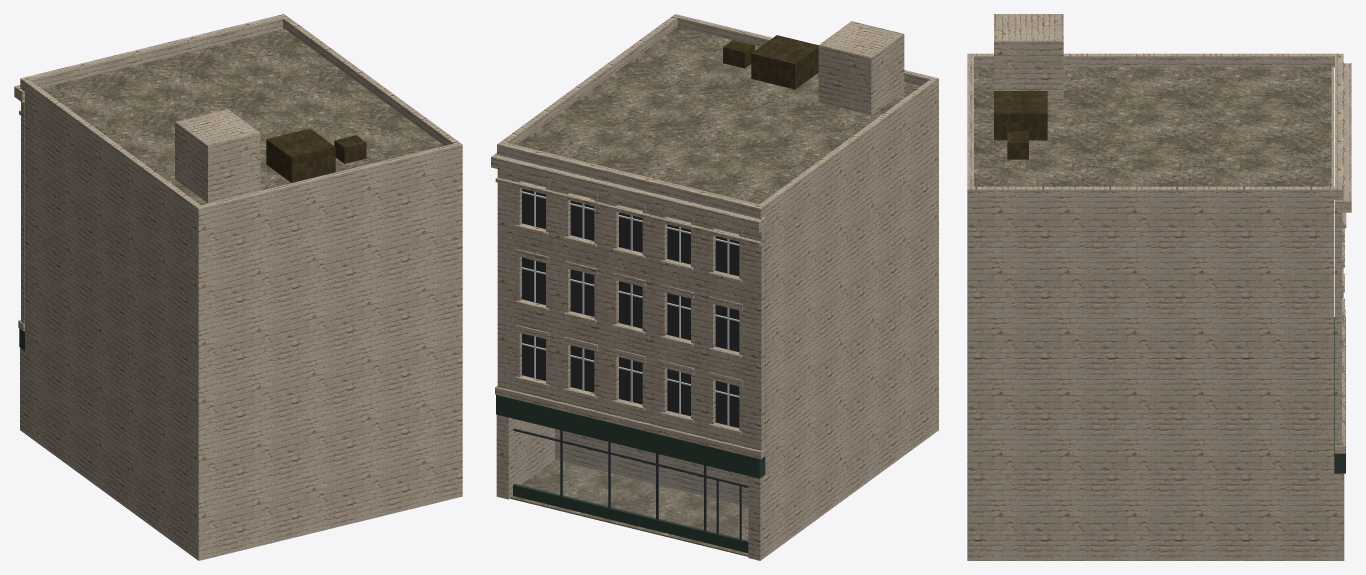
File: bldg_shop_stone_4st.gltf
3 renders of one model, left to right at view 1: azimuth 30°, elevation 25°; view 2: azimuth 150°, elevation 25°; view 3: azimuth 270°, elevation 25°, orthographic. The views are drawn at different scales.
Visible parts, largest first — view 1: bldg_shop_stone_4st; view 2: bldg_shop_stone_4st; view 3: bldg_shop_stone_4st.
Part boxes in pixels (x1,y1,x2,y2): bldg_shop_stone_4st: [14, 14, 462, 560]; bldg_shop_stone_4st: [491, 14, 938, 560]; bldg_shop_stone_4st: [967, 14, 1351, 560].
Size of what is drawn, in the model's own units: 12.2 by 17.42 by 14.35.
Materials: 8 (3 with a texture image).
